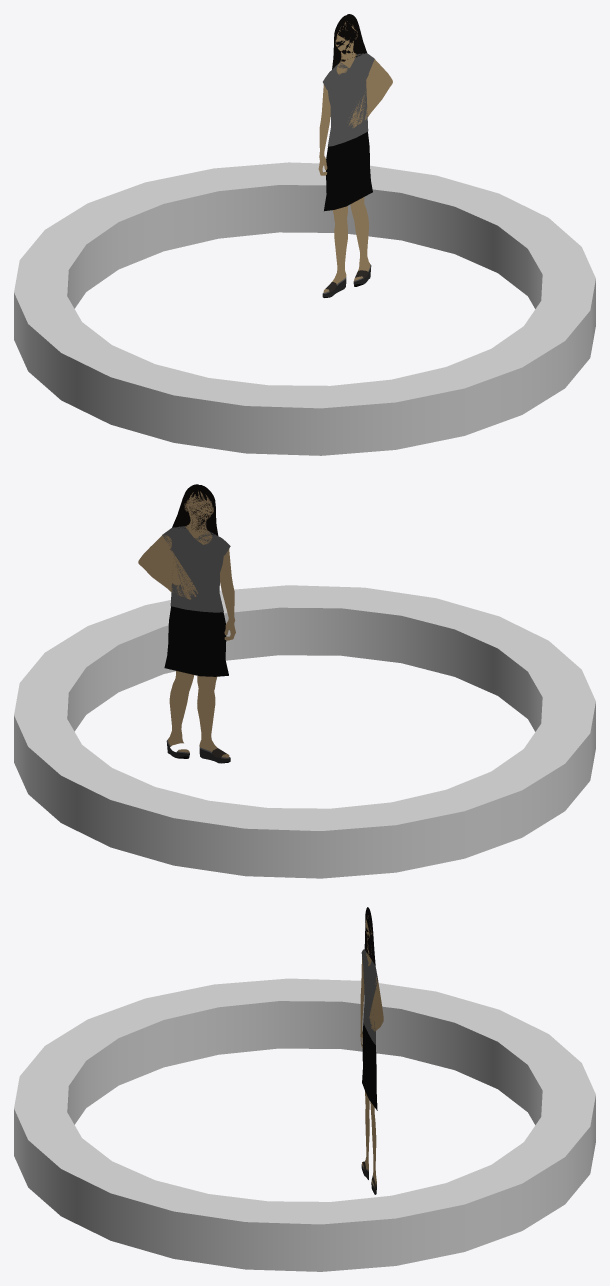
Rendered from JumpBoost.fbx.
3 renders of one model, top to bottom at view 1: azimuth 30°, elevation 25°; view 2: azimuth 150°, elevation 25°; view 3: azimuth 270°, elevation 25°, orthographic.
Parts seen in each view (by area): view 1: Model, Sophie1; view 2: Model, Sophie1; view 3: Model, Sophie1.
Part boxes in pixels (left/top/right/bottom): Model: left=14, top=162, right=595, bottom=455; Sophie1: left=318, top=14, right=392, bottom=297; Model: left=14, top=585, right=595, bottom=878; Sophie1: left=138, top=484, right=235, bottom=763; Model: left=14, top=978, right=595, bottom=1271; Sophie1: left=360, top=907, right=383, bottom=1194.
Size of the model in its own units: 127 by 66.64 by 127.
